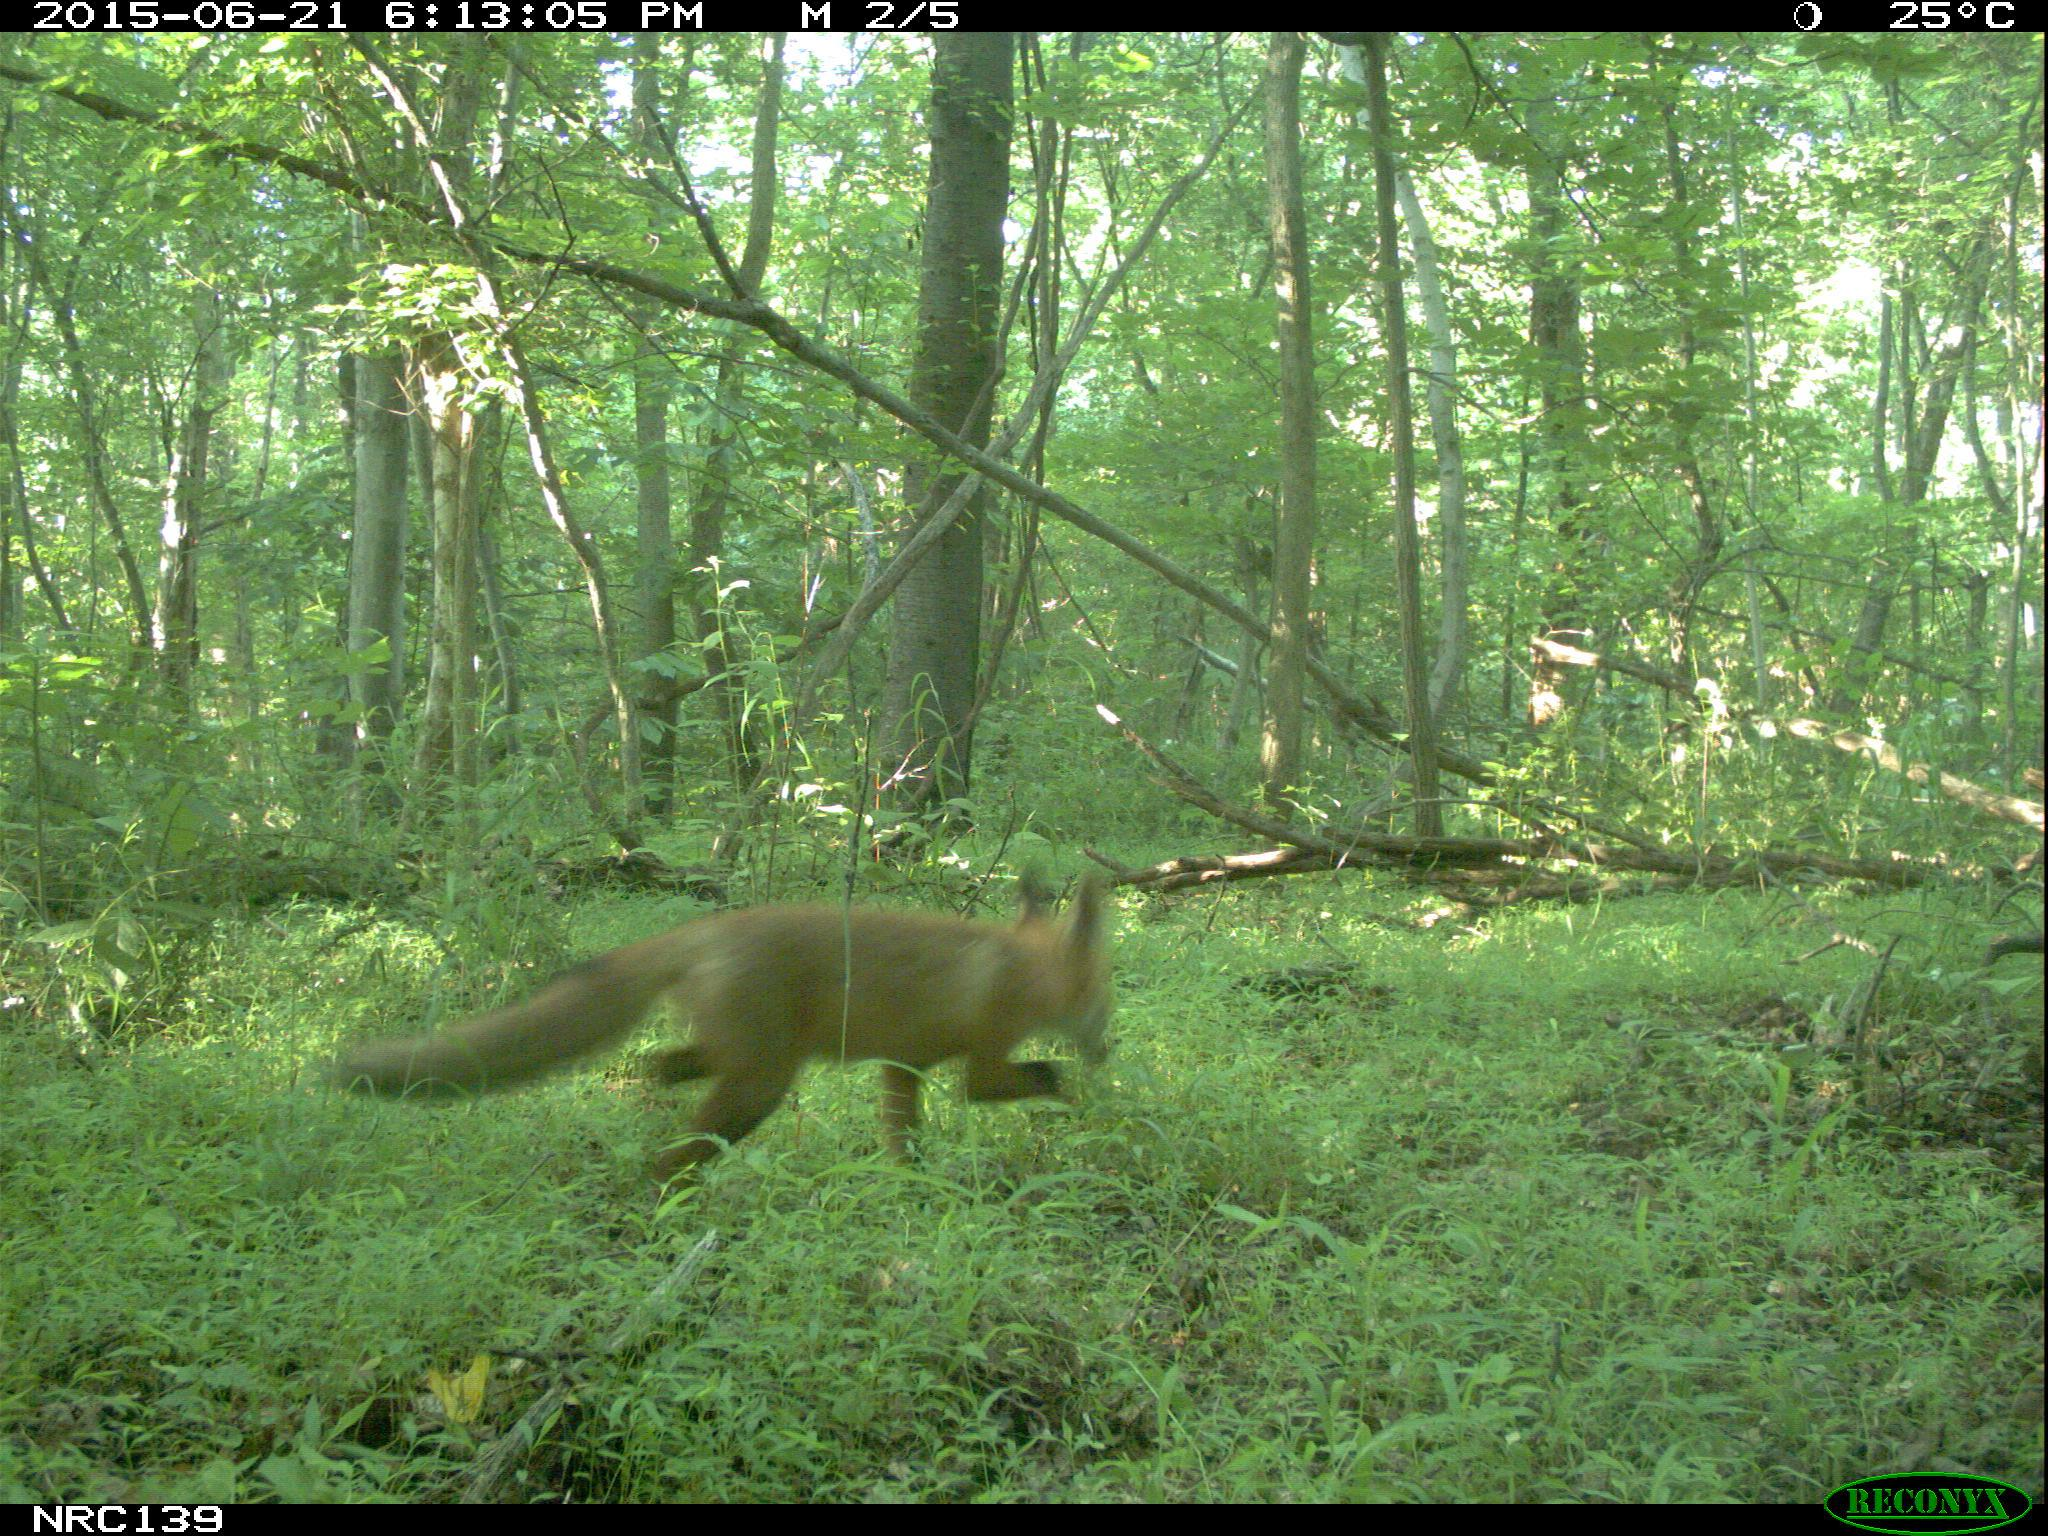Animal: (326, 863, 1113, 1196)
